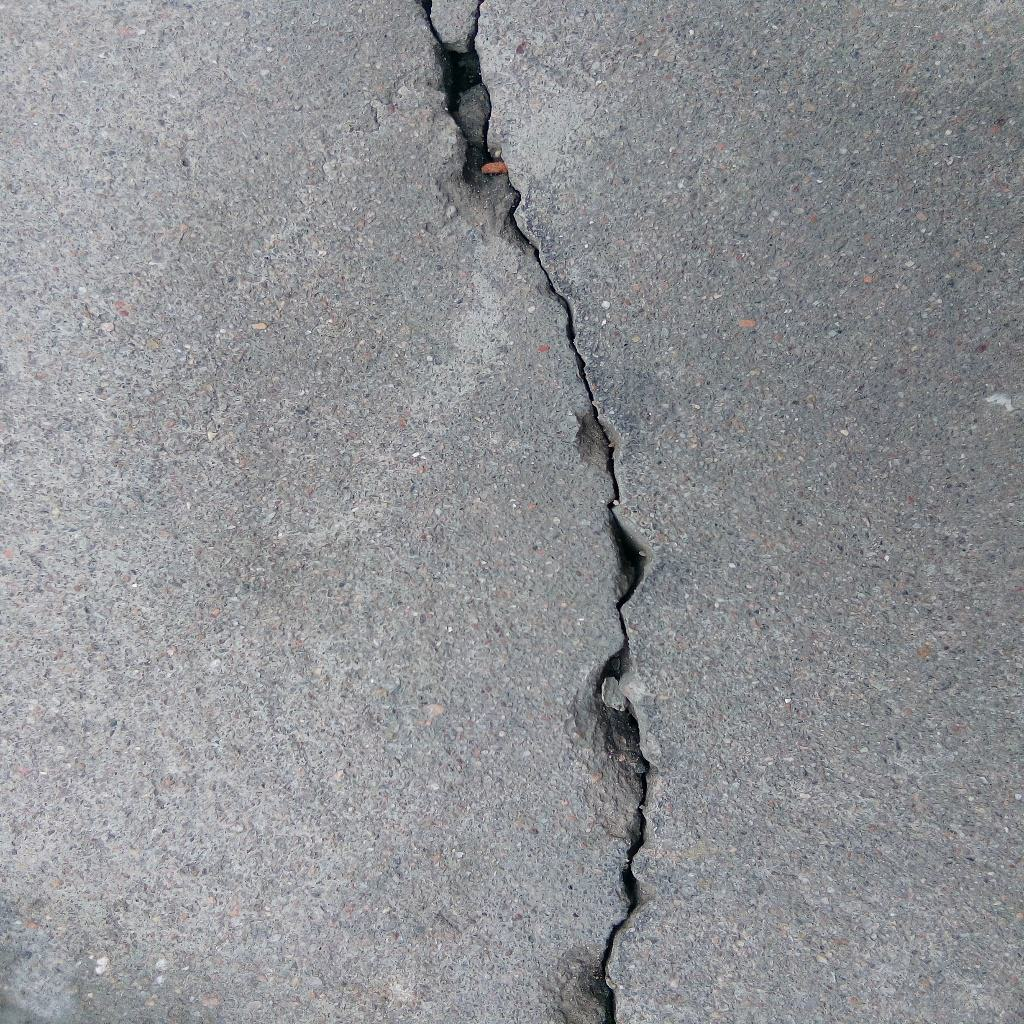Crack: (416, 1, 649, 1024)
